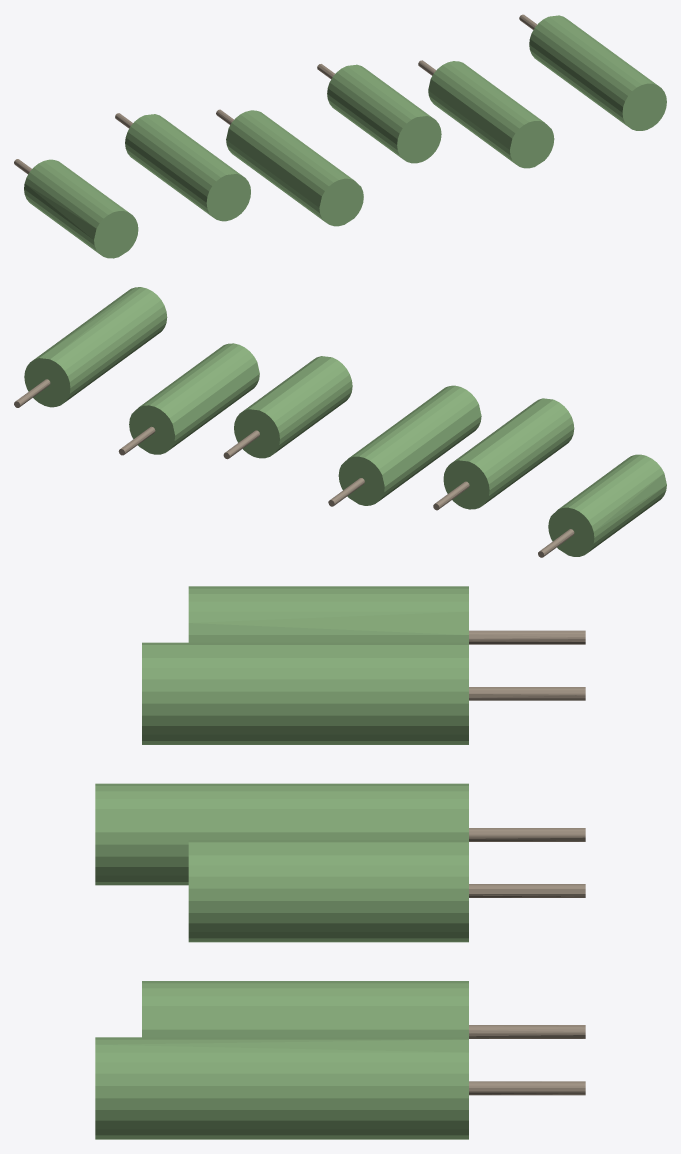
The model's file is r-150-twente-poplar-row.glb.
3 views of the same model, one above another, from view 1: azimuth 30°, elevation 25°; view 2: azimuth 150°, elevation 25°; view 3: azimuth 270°, elevation 25° (orthographic). The views are drawn at different scales.
Parts seen in each view (by area): view 1: foliage, trunks; view 2: foliage, trunks; view 3: foliage, trunks.
Part boxes in pixels (box(x1,y1,x2,y2)): foliage: box(24, 15, 666, 258); trunks: box(14, 14, 537, 174); foliage: box(24, 287, 666, 556); trunks: box(14, 379, 574, 557); foliage: box(95, 586, 468, 1139); trunks: box(469, 630, 585, 1095).
Size of the model in its own units: 54400 by 6369 by 20999.
